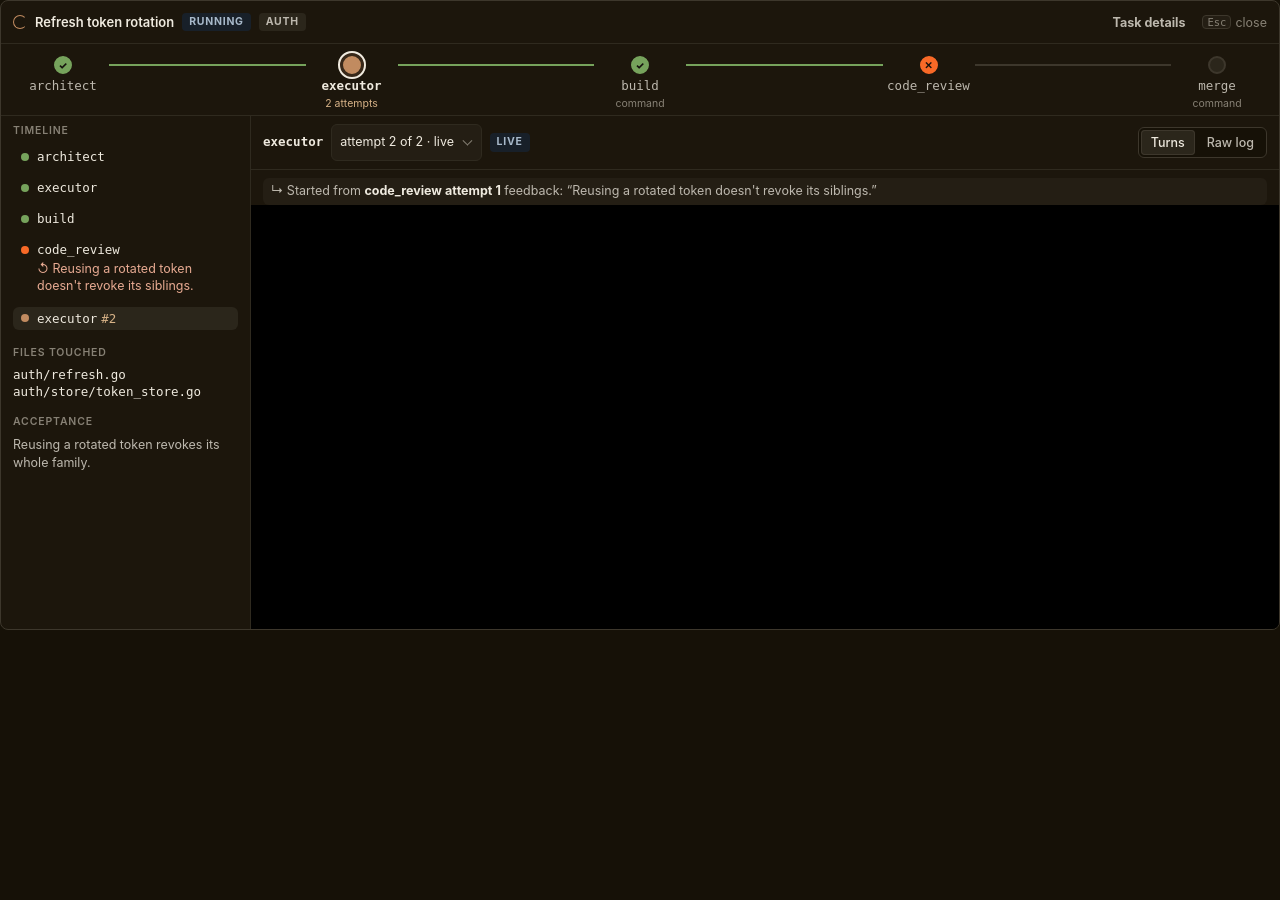
Scenario: TaskLens › switches between a stage's attempts with the attempt dropdown
Click the button "attempt 2 of 2 · live": {"x": 406, "y": 142} [331,124,482,161]
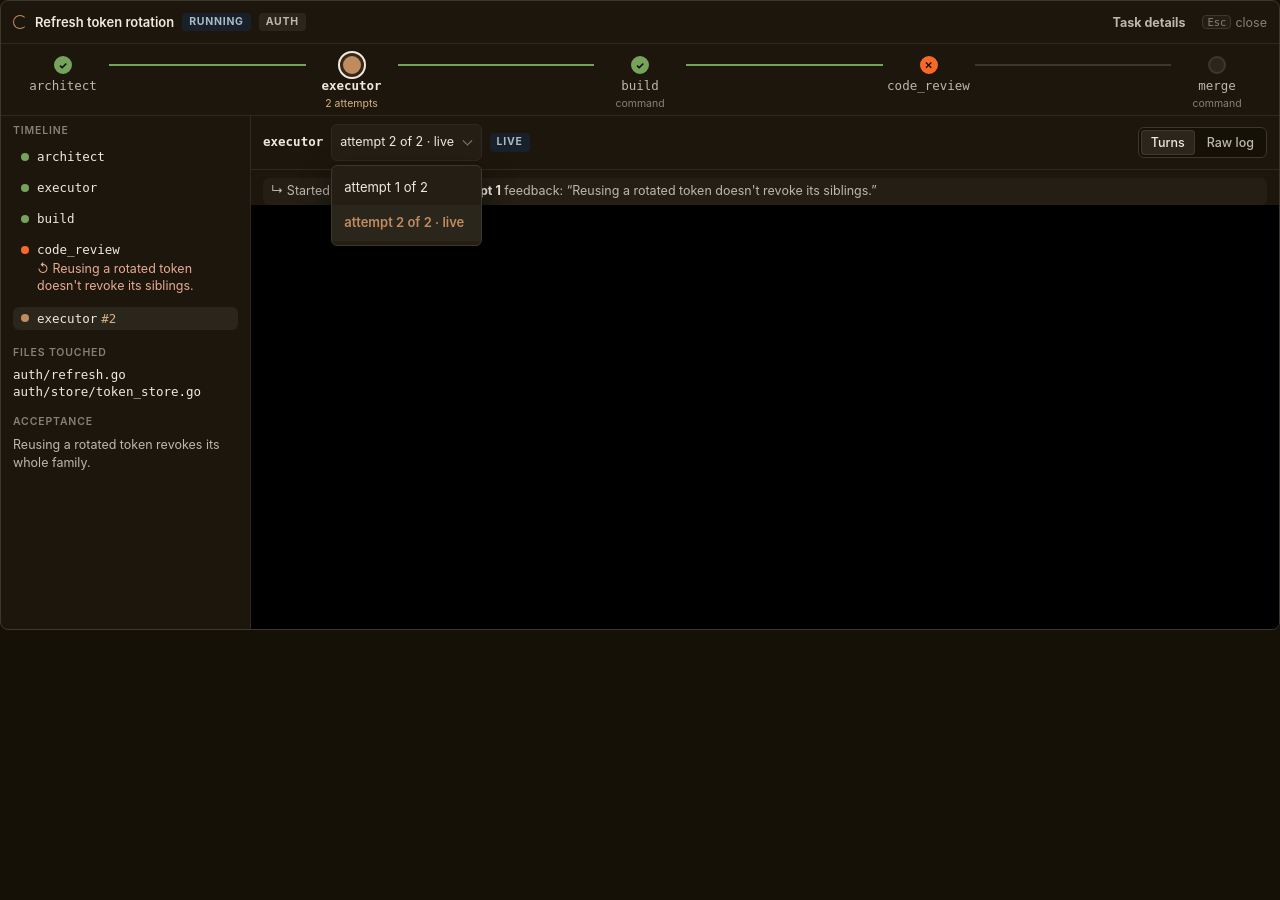
Click the option "attempt 1 of 2": {"x": 386, "y": 187} [344,179,428,195]
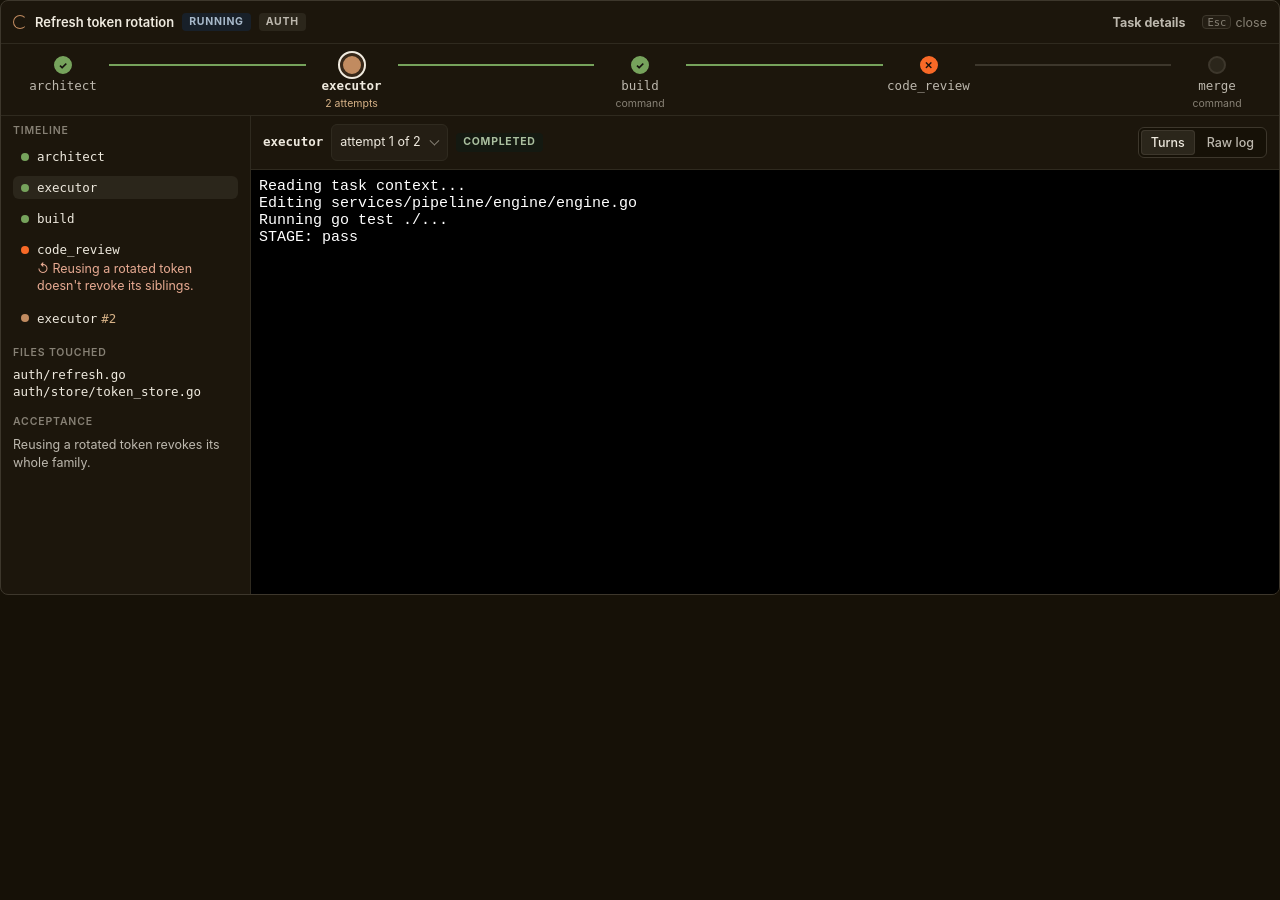
Result: the element with test id "handoff" is gone
